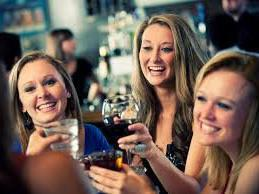Drunk: (196, 79, 238, 144), (19, 62, 65, 121), (140, 29, 173, 84)
